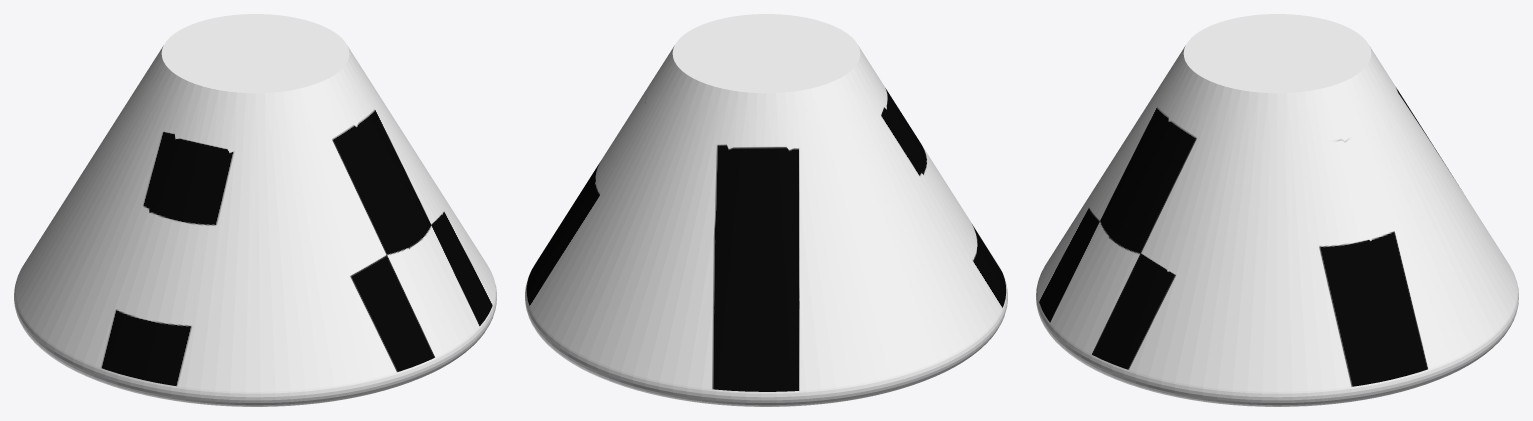
The picture shows the model from 3 angles, left to right: view 1: azimuth 30°, elevation 25°; view 2: azimuth 150°, elevation 25°; view 3: azimuth 270°, elevation 25°; orthographic projection.
Parts seen in each view (by area): view 1: CM; view 2: CM; view 3: CM.
Part boxes in pixels (bbox=[...]): CM: bbox=[14, 14, 496, 406]; CM: bbox=[525, 14, 1007, 406]; CM: bbox=[1036, 14, 1518, 406].
Bounding box in the file's own units: 103 × 66.25 × 103.
